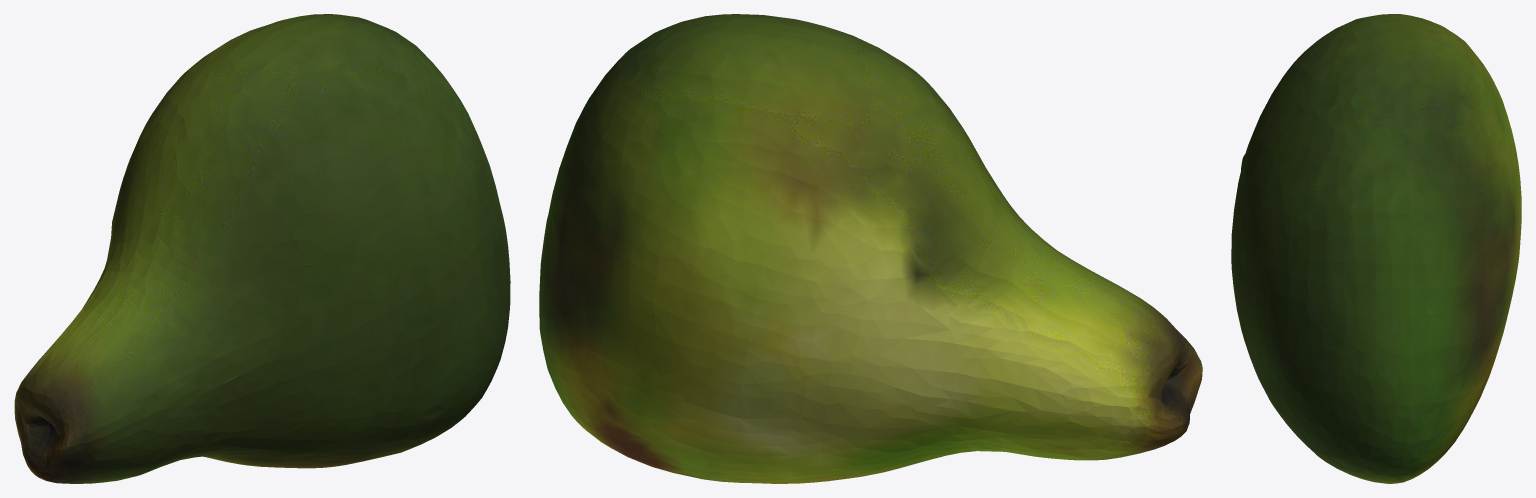
Rendered from small_green_pear_on_the_plate_000.glb.
3 views of the same model, side by side, from view 1: azimuth 30°, elevation 25°; view 2: azimuth 150°, elevation 25°; view 3: azimuth 270°, elevation 25° (orthographic). The views are drawn at different scales.
Visible parts, largest first — view 1: phase2_final_small_green_pear_on_the_plate_000.obj; view 2: phase2_final_small_green_pear_on_the_plate_000.obj; view 3: phase2_final_small_green_pear_on_the_plate_000.obj.
Part boxes in pixels (bbox=[...]): phase2_final_small_green_pear_on_the_plate_000.obj: bbox=[14, 14, 510, 483]; phase2_final_small_green_pear_on_the_plate_000.obj: bbox=[539, 14, 1202, 483]; phase2_final_small_green_pear_on_the_plate_000.obj: bbox=[1231, 14, 1521, 483].
Bounding box in the file's own units: 0.1916 × 0.148 × 0.098.
Materials: 1 (1 with a texture image).
